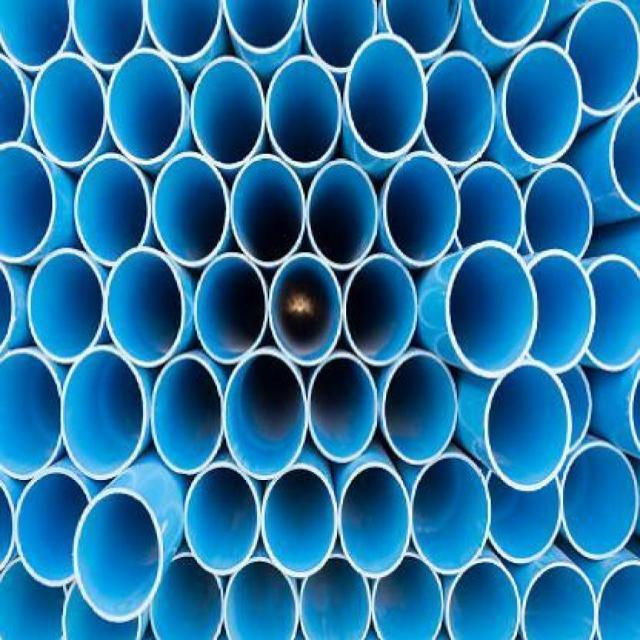pipe: (445, 240, 538, 379), (484, 360, 572, 491), (74, 489, 162, 620), (62, 346, 147, 480), (345, 33, 428, 158), (225, 352, 307, 478), (502, 40, 582, 164), (410, 453, 490, 575), (105, 248, 185, 367), (15, 469, 91, 588), (562, 443, 639, 560), (108, 48, 185, 165), (563, 0, 639, 118), (28, 247, 105, 363), (31, 52, 108, 168), (383, 152, 461, 266), (152, 153, 229, 267), (382, 351, 458, 465), (266, 55, 342, 169), (185, 463, 262, 575), (423, 49, 495, 168), (74, 154, 150, 266), (261, 467, 337, 578), (527, 249, 595, 373), (194, 253, 269, 365), (191, 56, 266, 168), (231, 154, 305, 266), (269, 254, 343, 366), (343, 254, 417, 366), (152, 356, 223, 472), (340, 464, 412, 578), (0, 349, 62, 480), (306, 159, 379, 270), (309, 355, 379, 463), (485, 469, 562, 564), (1, 139, 56, 263), (524, 164, 594, 261), (150, 551, 224, 639), (454, 162, 525, 253), (298, 554, 373, 639), (585, 254, 639, 372), (224, 557, 300, 639), (373, 552, 444, 639), (445, 558, 521, 639), (522, 563, 599, 639), (0, 553, 66, 640), (303, 0, 379, 74), (72, 0, 144, 69), (0, 0, 72, 69), (145, 0, 222, 63), (382, 0, 462, 60), (222, 0, 302, 54), (607, 98, 640, 215), (470, 0, 549, 48), (597, 560, 640, 639), (0, 49, 28, 148)
